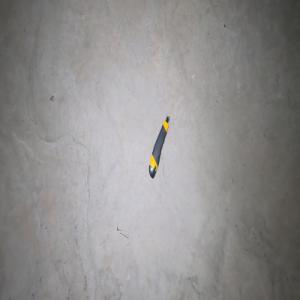Cutter: (148, 115, 170, 179)
